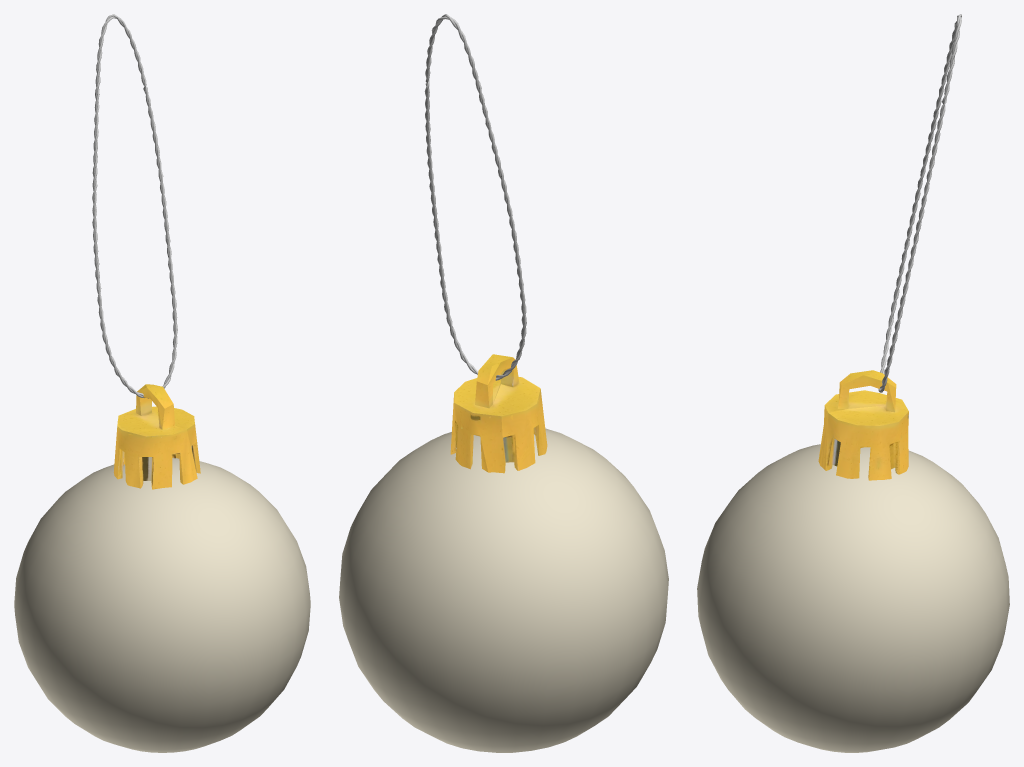
File: Mat_Orb.glb
3 views of the same model, side by side, from view 1: azimuth 30°, elevation 25°; view 2: azimuth 150°, elevation 25°; view 3: azimuth 270°, elevation 25° (orthographic). The views are drawn at different scales.
Visible parts, largest first — view 1: Sphere, GN Instance; view 2: Sphere, GN Instance; view 3: Sphere, GN Instance.
Boxes of the visible parts, x1=… form: Sphere: x1=14, y1=384, x2=310, y2=752; GN Instance: x1=92, y1=14, x2=177, y2=398; Sphere: x1=339, y1=354, x2=668, y2=752; GN Instance: x1=424, y1=14, x2=526, y2=380; Sphere: x1=697, y1=370, x2=1009, y2=752; GN Instance: x1=878, y1=14, x2=961, y2=392.
Bounding box in the file's own units: 0.038 × 0.0969 × 0.0379.
3 materials, 1 textured.
